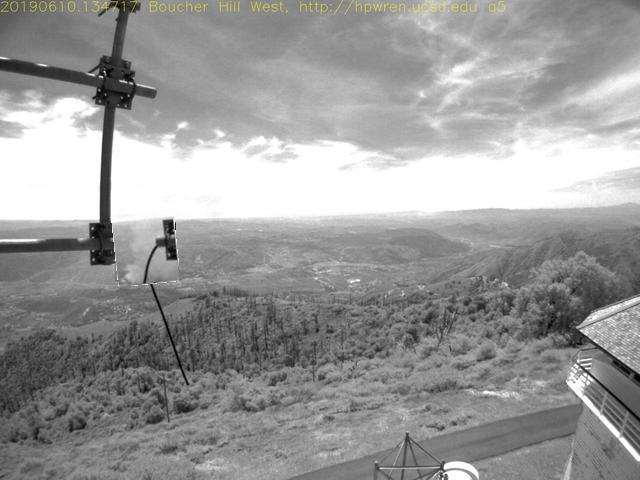smoke: (114, 206, 180, 287)
